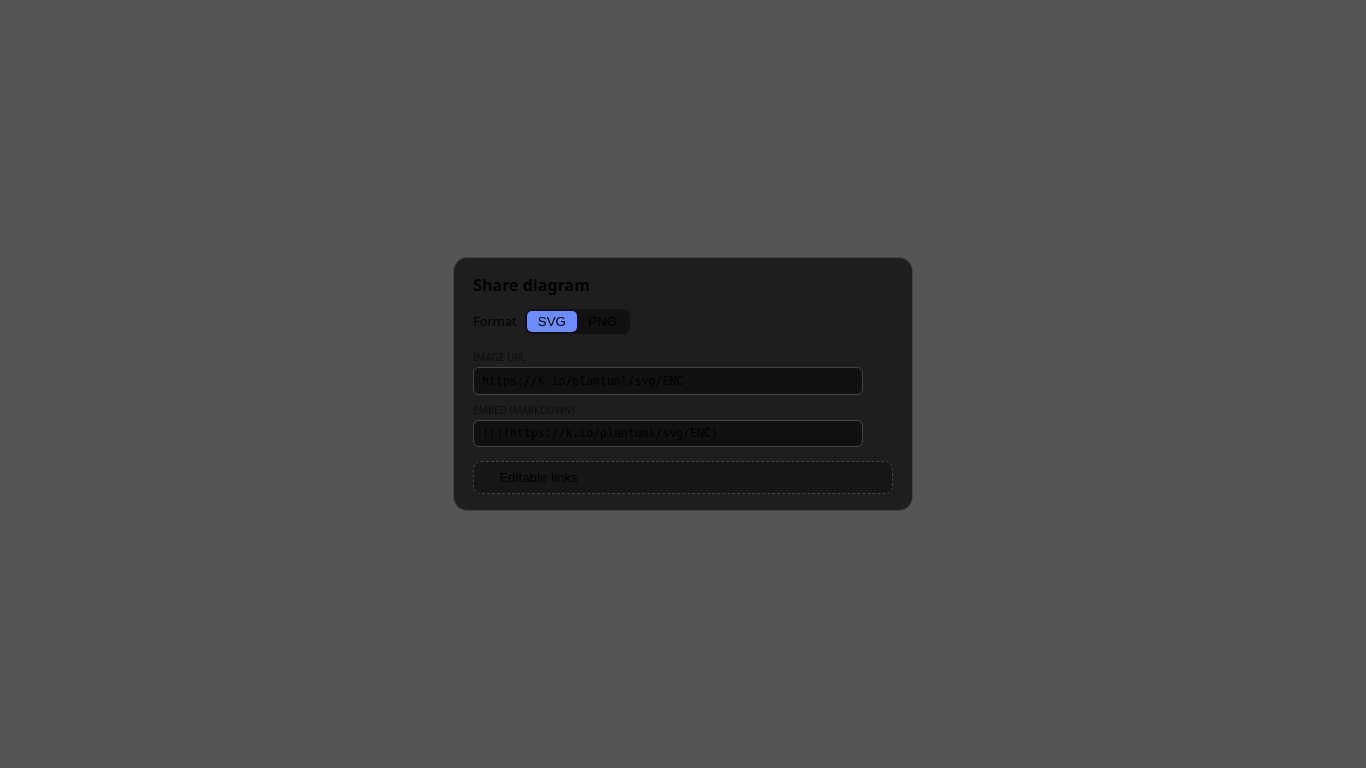
Test case: shareDialog › editable outputs hidden by default, shown when expanded, state persisted
Click the button "Editable links" at (537, 478), box [473, 461, 893, 494]
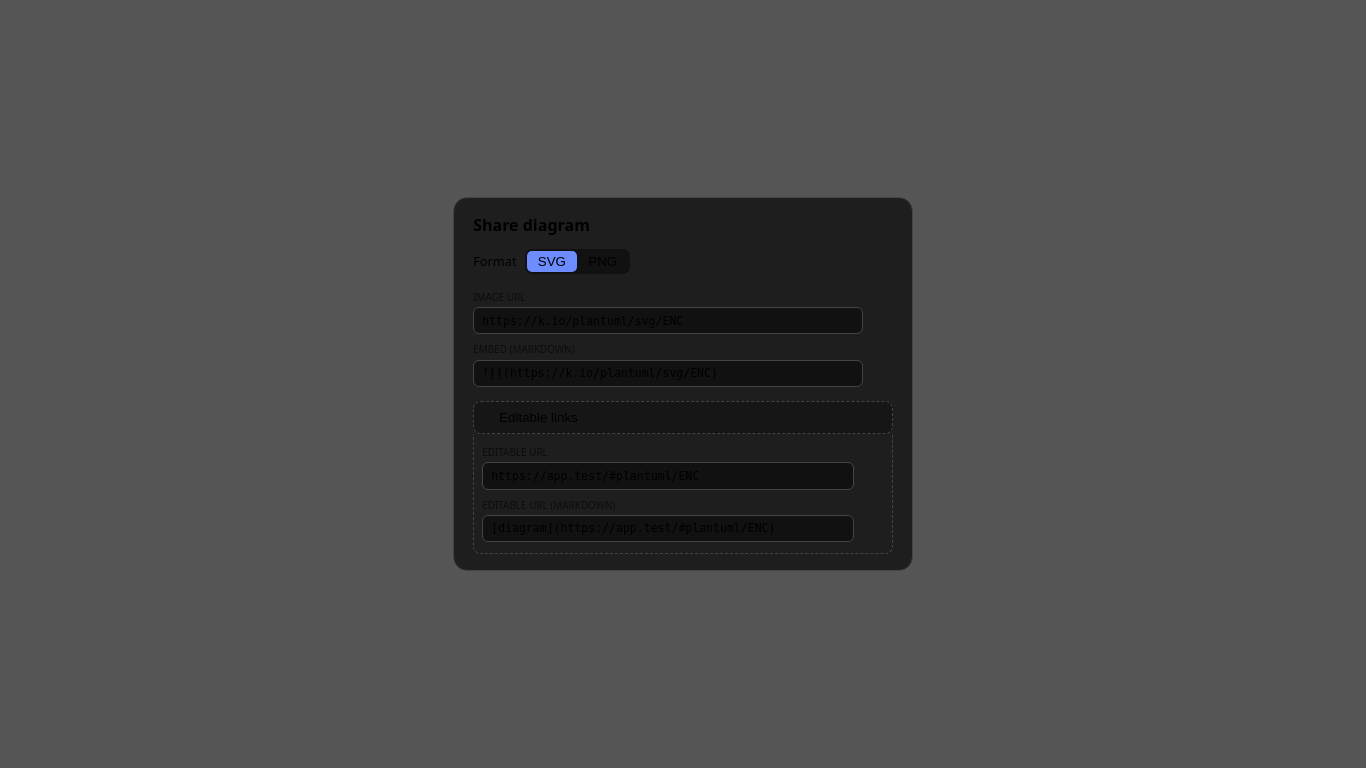
Check: the element showing "Editable URL Editable URL (Markdown)" is shown, box [473, 434, 893, 554]
